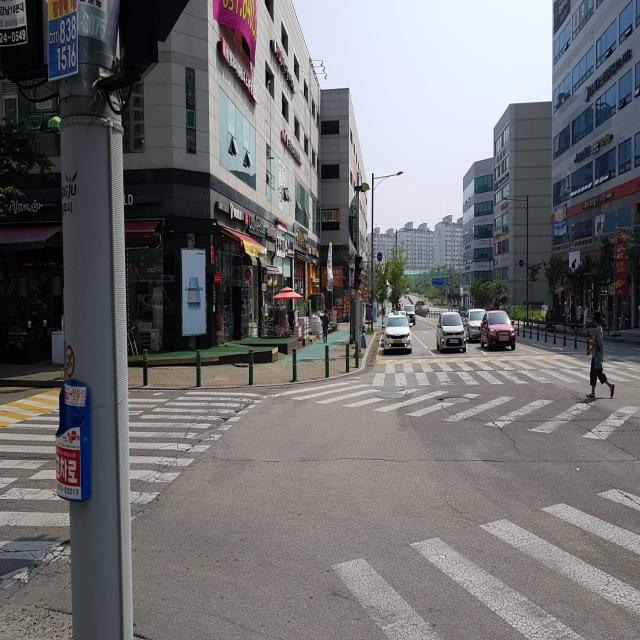횡단보도: (0, 387, 269, 595)
